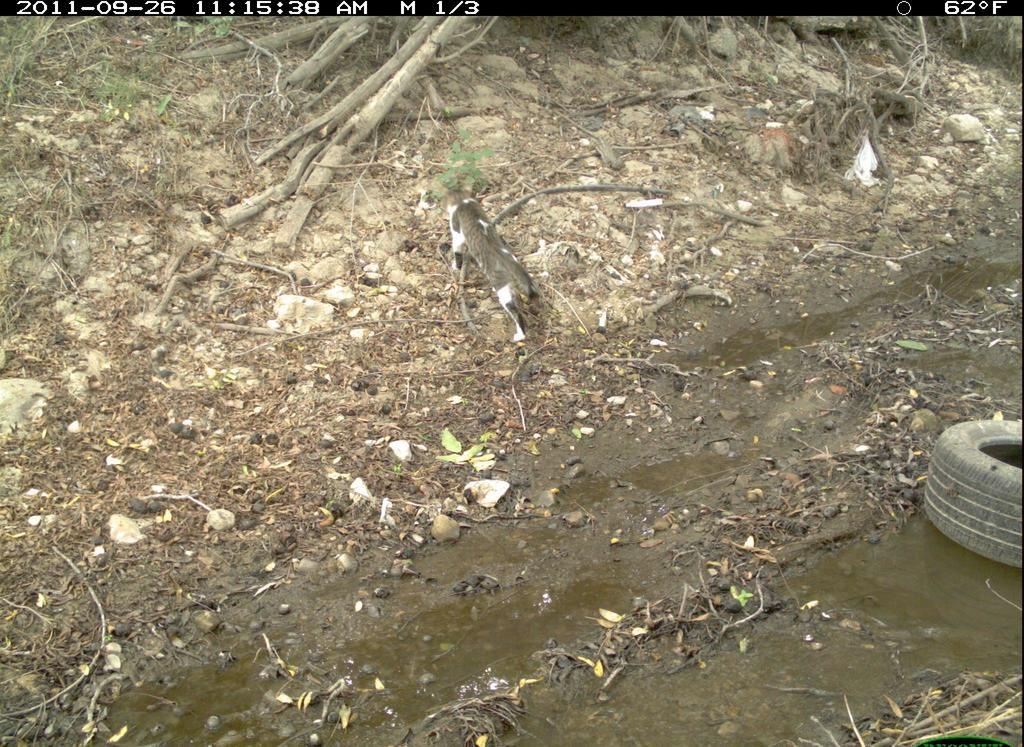cat: (439, 178, 542, 346)
